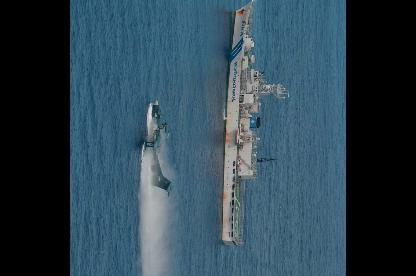Tu95: (144, 100, 174, 197)
